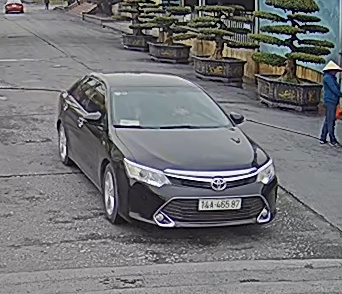vehicle plate: (196, 195, 248, 209)
